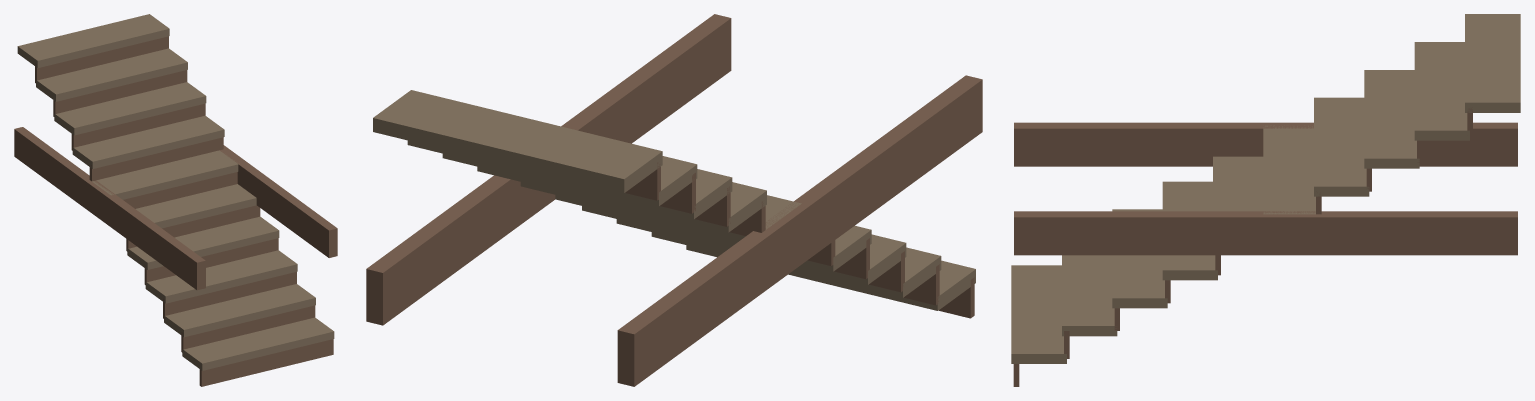
File: haunted_stairs_wood.glb
3 views of the same model, side by side, from view 1: azimuth 30°, elevation 25°; view 2: azimuth 150°, elevation 25°; view 3: azimuth 270°, elevation 25° (orthographic). The views are drawn at different scales.
Parts seen in each view (by area): view 1: Haunted_Stairs_Wood; view 2: Haunted_Stairs_Wood; view 3: Haunted_Stairs_Wood.
Boxes of the visible parts, x1=… form: Haunted_Stairs_Wood: x1=14, y1=14, x2=337, y2=386; Haunted_Stairs_Wood: x1=366, y1=14, x2=982, y2=386; Haunted_Stairs_Wood: x1=1011, y1=14, x2=1520, y2=386.
Bounding box in the file's own units: 1.6 × 2.24 × 3.64.
